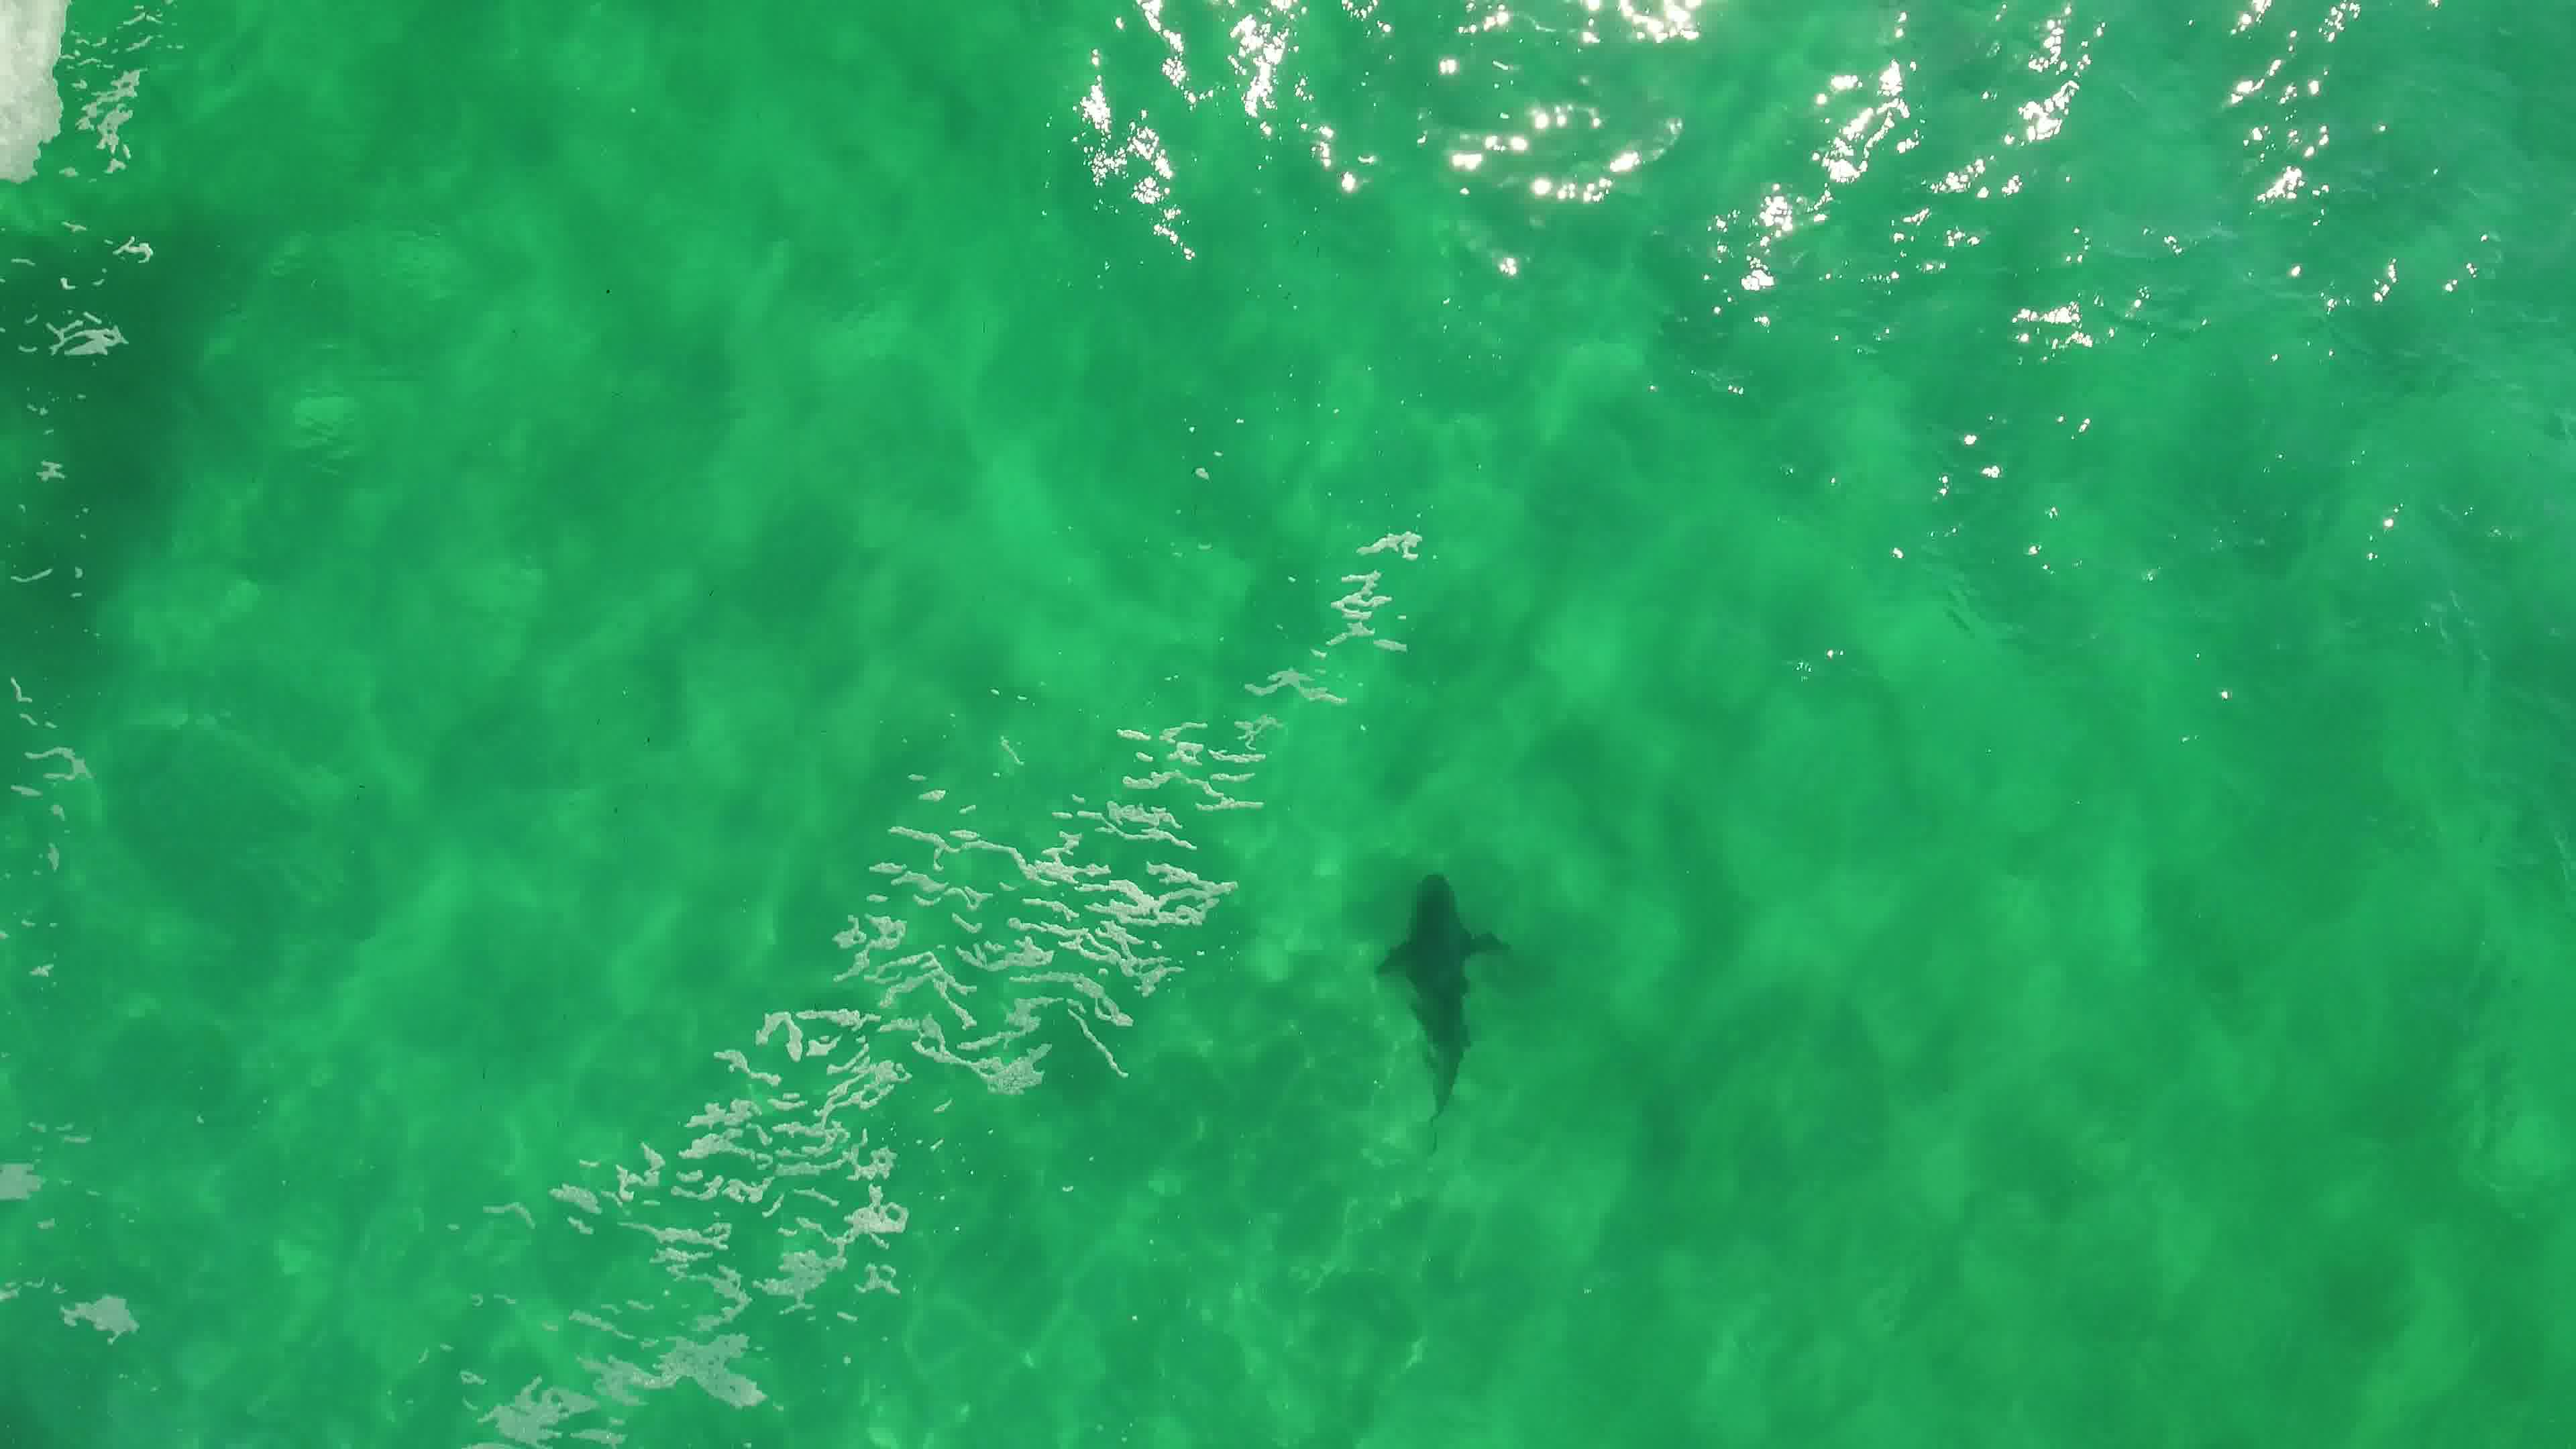shark: (1366, 862, 1518, 1138)
